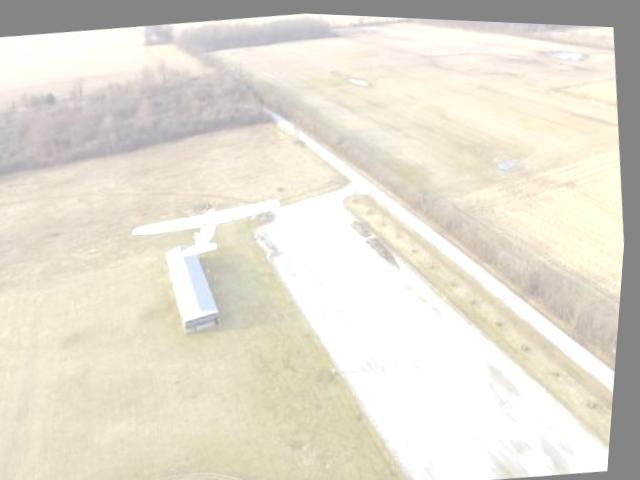uav: (124, 180, 297, 276)
